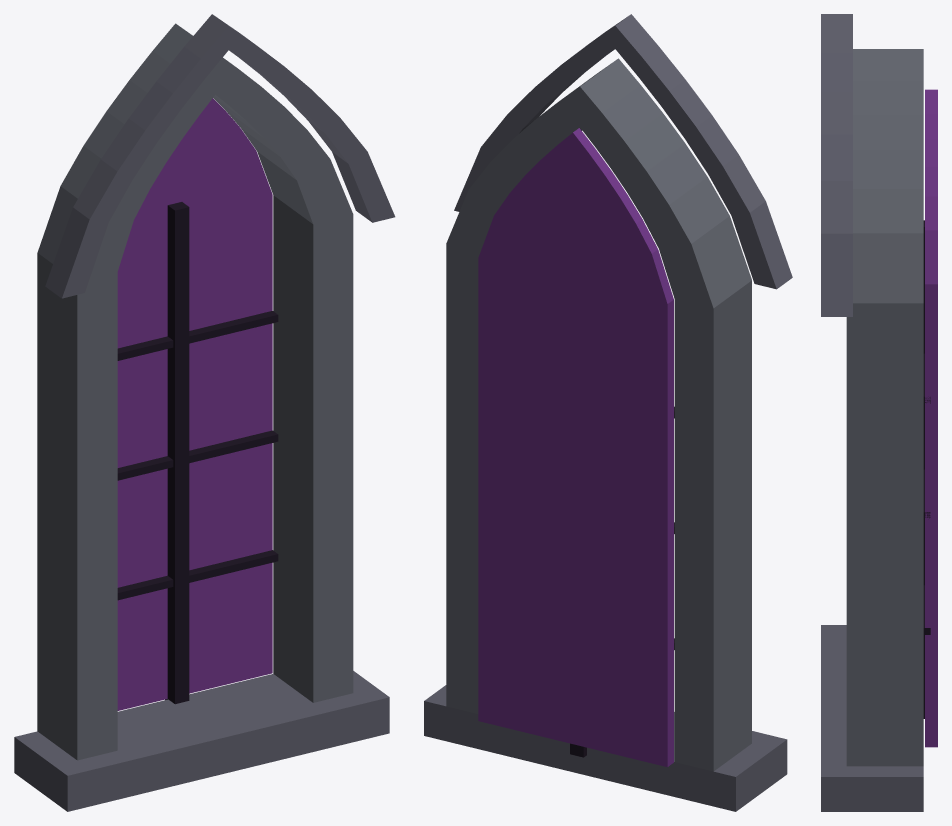
Rendered from kit_church_window_shut.glb.
The picture shows the model from 3 angles, left to right: view 1: azimuth 30°, elevation 25°; view 2: azimuth 150°, elevation 25°; view 3: azimuth 270°, elevation 25°; orthographic projection. The views are drawn at different scales.
Parts seen in each view (by area): view 1: kit_church_window_shut; view 2: kit_church_window_shut; view 3: kit_church_window_shut.
Boxes of the visible parts, x1=… form: kit_church_window_shut: x1=14, y1=14, x2=395, y2=811; kit_church_window_shut: x1=424, y1=14, x2=792, y2=811; kit_church_window_shut: x1=821, y1=14, x2=937, y2=811.
Size of the model in its own units: 0.58 by 1.24 by 0.182.
